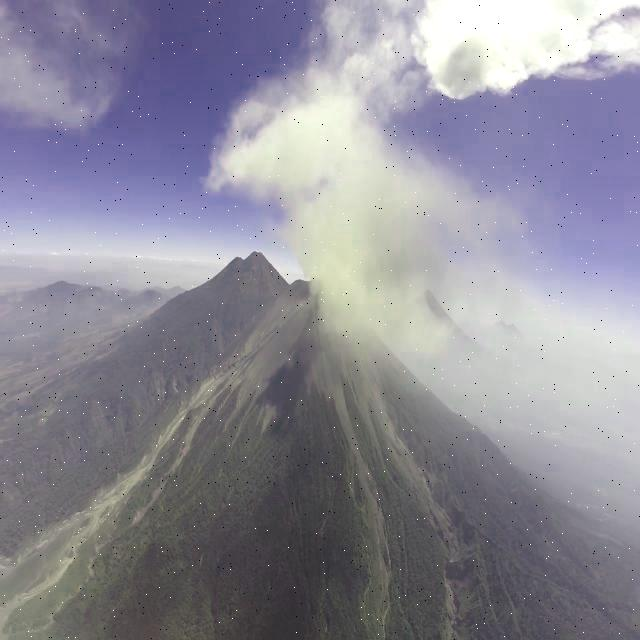Plume: (213, 74, 482, 368), (414, 0, 640, 94), (0, 0, 141, 138)
